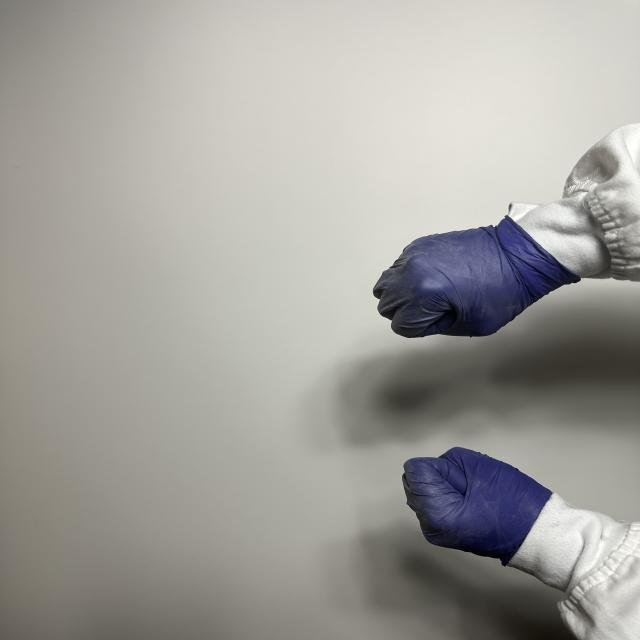gloves_contaminated: (373, 218, 580, 338), (403, 449, 551, 564)
